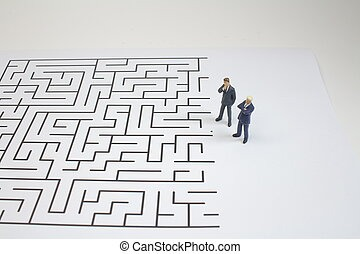maze: (9, 60, 213, 226)
